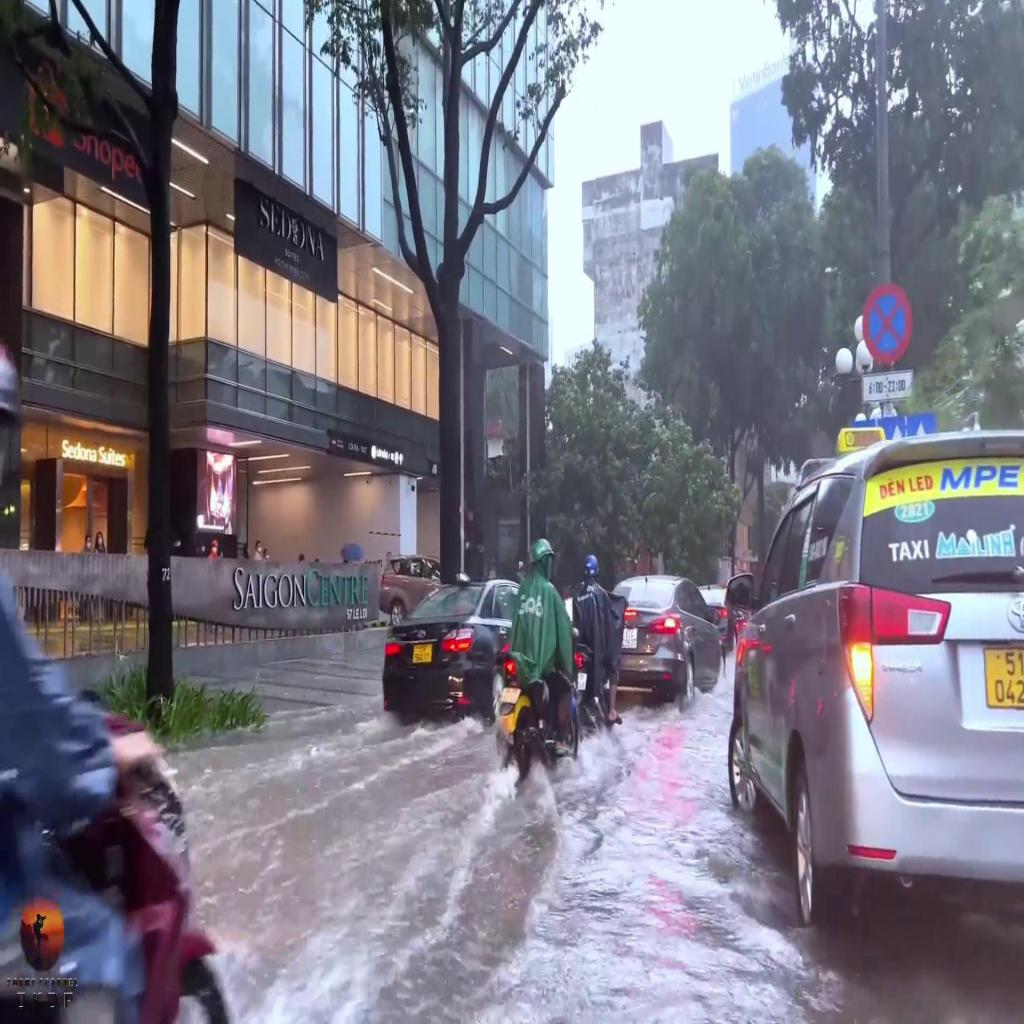cam_dung_xe_va_do_xe: (861, 284, 911, 366)
khac: (863, 371, 911, 402)
